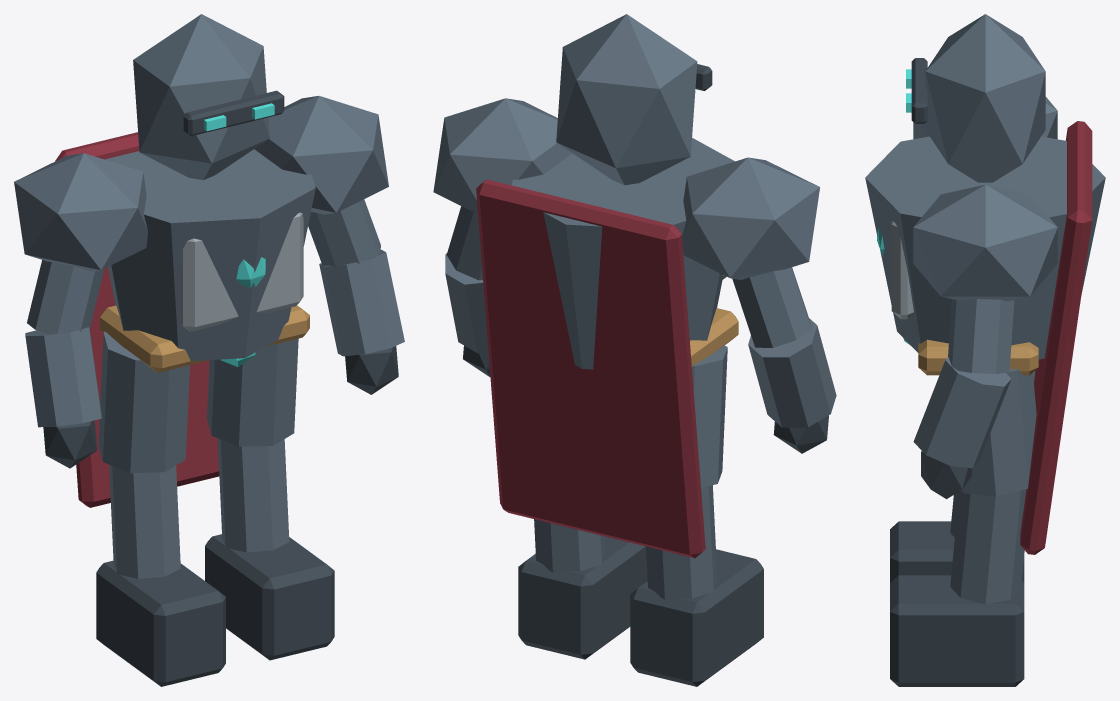
The model's file is L01R_KaelStudy.fbx.
3 renders of one model, left to right at view 1: azimuth 30°, elevation 25°; view 2: azimuth 150°, elevation 25°; view 3: azimuth 270°, elevation 25°, orthographic. The views are drawn at different scales.
Visible parts, largest first — view 1: L01R_KaelStudy; view 2: L01R_KaelStudy; view 3: L01R_KaelStudy.
Part boxes in pixels (<box>): L01R_KaelStudy: <box>14,14,404,686</box>; L01R_KaelStudy: <box>433,14,836,686</box>; L01R_KaelStudy: <box>865,14,1105,686</box>.
Bounding box in the file's own units: 120 × 197 × 68.
